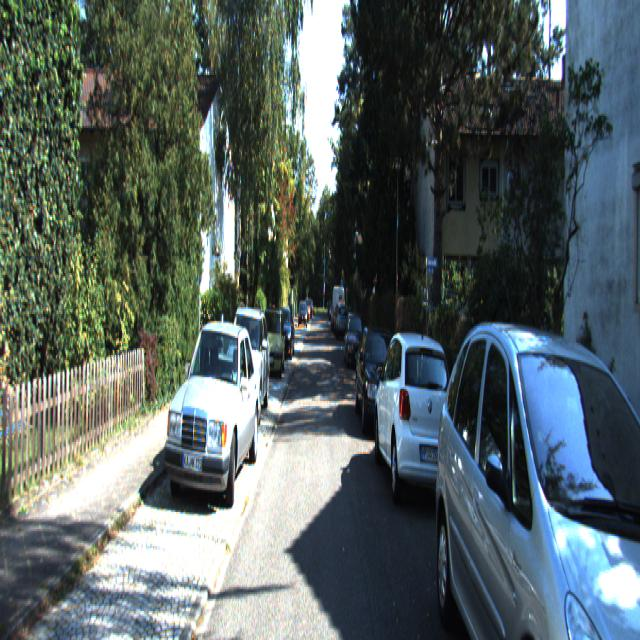Car: (438, 314, 640, 638), (162, 316, 262, 517), (373, 323, 460, 518), (354, 317, 407, 441), (219, 306, 271, 428), (259, 305, 286, 378), (344, 310, 368, 369), (332, 286, 346, 335), (336, 303, 349, 340)
